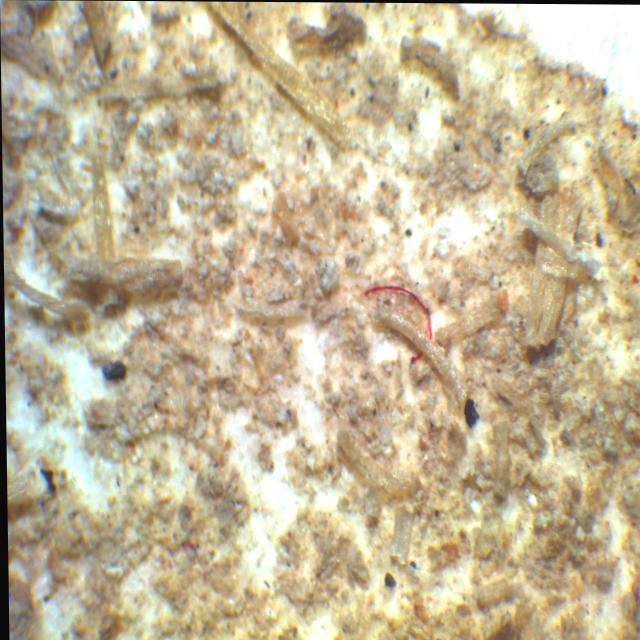microplastic: (361, 267, 449, 366)
